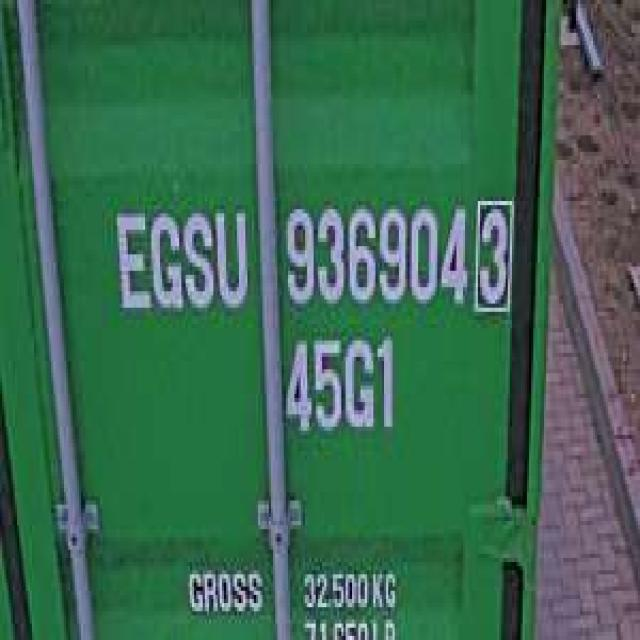dv: (467, 185, 516, 320)
owner: (109, 193, 252, 328)
serial: (278, 189, 470, 320)
size: (280, 328, 401, 451)
